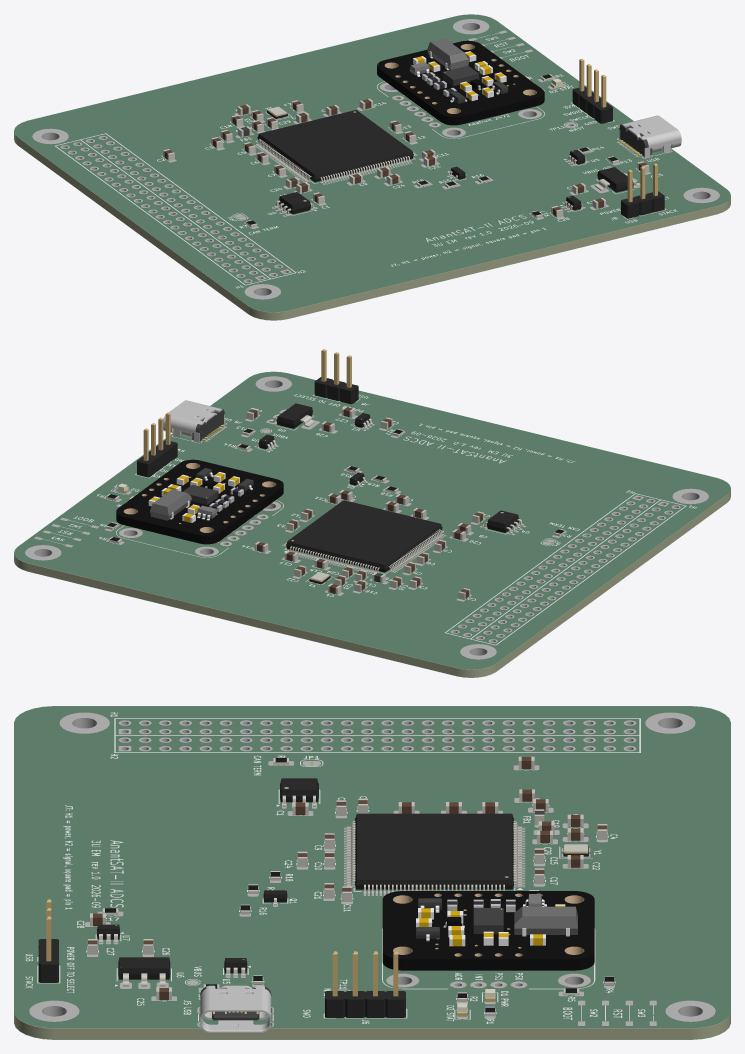
Rendered from board.glb.
3 renders of one model, top to bottom at view 1: azimuth 30°, elevation 25°; view 2: azimuth 150°, elevation 25°; view 3: azimuth 270°, elevation 25°, orthographic. The views are drawn at different scales.
Parts seen in each view (by area): view 1: =>[0:1:1:45], =>[0:1:1:47], =>[0:1:1:42], =>[0:1:1:7], Board:1, =>[0:1:1:43], =>[0:1:1:39], =>[0:1:1:33], =>[0:1:1:35], CRYSTAL_8X3.8:Y1, =>[0:1:1:13], =>[0:1:1:46] (+2 smaller); view 2: =>[0:1:1:45], =>[0:1:1:47], =>[0:1:1:42], =>[0:1:1:7], Board:1, =>[0:1:1:43], =>[0:1:1:39], =>[0:1:1:35], =>[0:1:1:33], CRYSTAL_8X3.8:Y1, =>[0:1:1:13], =>[0:1:1:46] (+1 smaller); view 3: =>[0:1:1:45], =>[0:1:1:47], =>[0:1:1:42], =>[0:1:1:7], Board:1, =>[0:1:1:43], =>[0:1:1:39], =>[0:1:1:33], CRYSTAL_8X3.8:Y1, =>[0:1:1:13], =>[0:1:1:35], =>[0:1:1:41] (+2 smaller).
Part boxes in pixels (box(x1,y1,x2,y2)): =>[0:1:1:45]: box(14, 14, 730, 312); =>[0:1:1:47]: box(14, 15, 730, 320); =>[0:1:1:42]: box(32, 19, 719, 299); =>[0:1:1:7]: box(255, 110, 415, 183); Board:1: box(377, 40, 544, 125); =>[0:1:1:43]: box(55, 33, 677, 288); =>[0:1:1:39]: box(572, 59, 612, 123); =>[0:1:1:33]: box(619, 115, 681, 157); =>[0:1:1:35]: box(621, 163, 664, 218); CRYSTAL_8X3.8:Y1: box(427, 38, 468, 69); =>[0:1:1:13]: box(594, 167, 640, 192); =>[0:1:1:46]: box(15, 143, 730, 320); =>[0:1:1:45]: box(14, 371, 730, 669); =>[0:1:1:47]: box(14, 372, 730, 677); =>[0:1:1:42]: box(25, 376, 708, 659); =>[0:1:1:7]: box(284, 500, 444, 573); Board:1: box(116, 459, 283, 544); =>[0:1:1:43]: box(43, 394, 696, 645); =>[0:1:1:39]: box(137, 412, 177, 477); =>[0:1:1:35]: box(314, 349, 358, 404); =>[0:1:1:33]: box(163, 400, 224, 442); CRYSTAL_8X3.8:Y1: box(150, 489, 191, 520); =>[0:1:1:13]: box(269, 403, 315, 428); =>[0:1:1:46]: box(14, 498, 730, 677); =>[0:1:1:45]: box(14, 706, 730, 1028); =>[0:1:1:47]: box(14, 707, 730, 1039); =>[0:1:1:42]: box(29, 712, 715, 1027); =>[0:1:1:7]: box(347, 813, 521, 894); Board:1: box(382, 891, 594, 970); =>[0:1:1:43]: box(25, 712, 653, 1023); =>[0:1:1:39]: box(325, 951, 405, 1017); =>[0:1:1:33]: box(200, 985, 271, 1032); CRYSTAL_8X3.8:Y1: box(514, 906, 577, 936); =>[0:1:1:13]: box(118, 957, 170, 986); =>[0:1:1:35]: box(38, 899, 58, 982); =>[0:1:1:41]: box(280, 778, 318, 806).
Bounding box in the file's own units: 0.0974 × 0.0115 × 0.0902.
